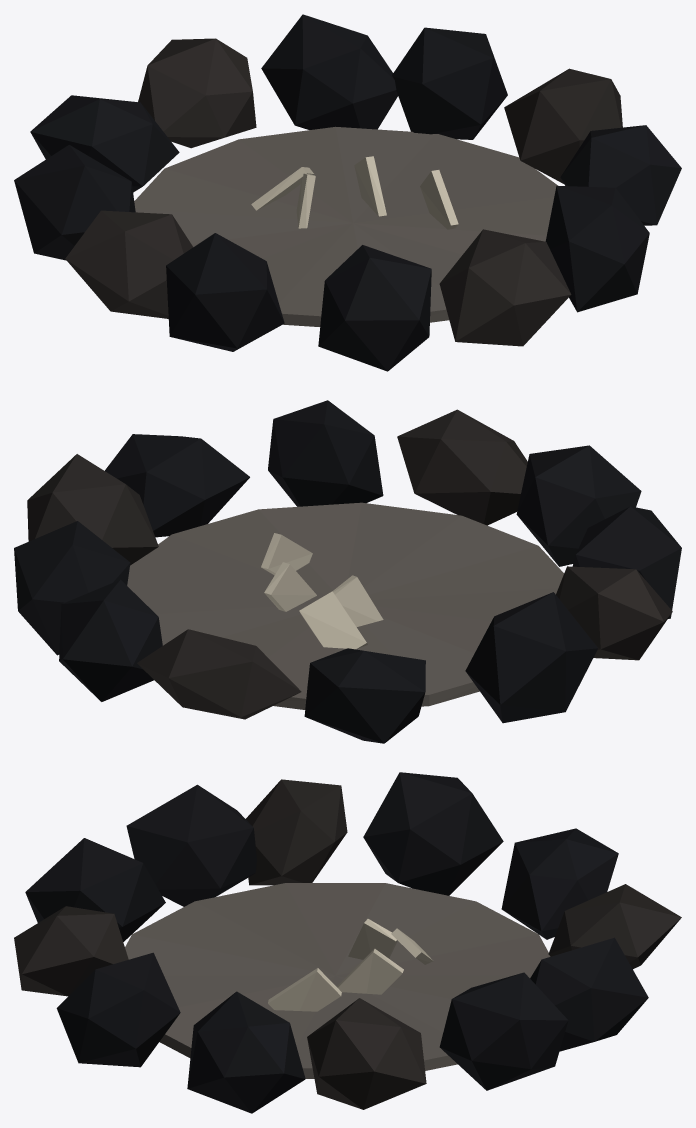
Rendered from scorched-nest-a.glb.
3 views of the same model, one above another, from view 1: azimuth 30°, elevation 25°; view 2: azimuth 150°, elevation 25°; view 3: azimuth 270°, elevation 25° (orthographic). The views are drawn at different scales.
Visible parts, largest first — view 1: scorched-nest-a; view 2: scorched-nest-a; view 3: scorched-nest-a.
Part boxes in pixels (left/top/right/bottom): scorched-nest-a: left=14, top=14, right=681, bottom=371; scorched-nest-a: left=14, top=400, right=681, bottom=743; scorched-nest-a: left=14, top=772, right=681, bottom=1113.
Bounding box in the file's own units: 6 × 1.2 × 6.
